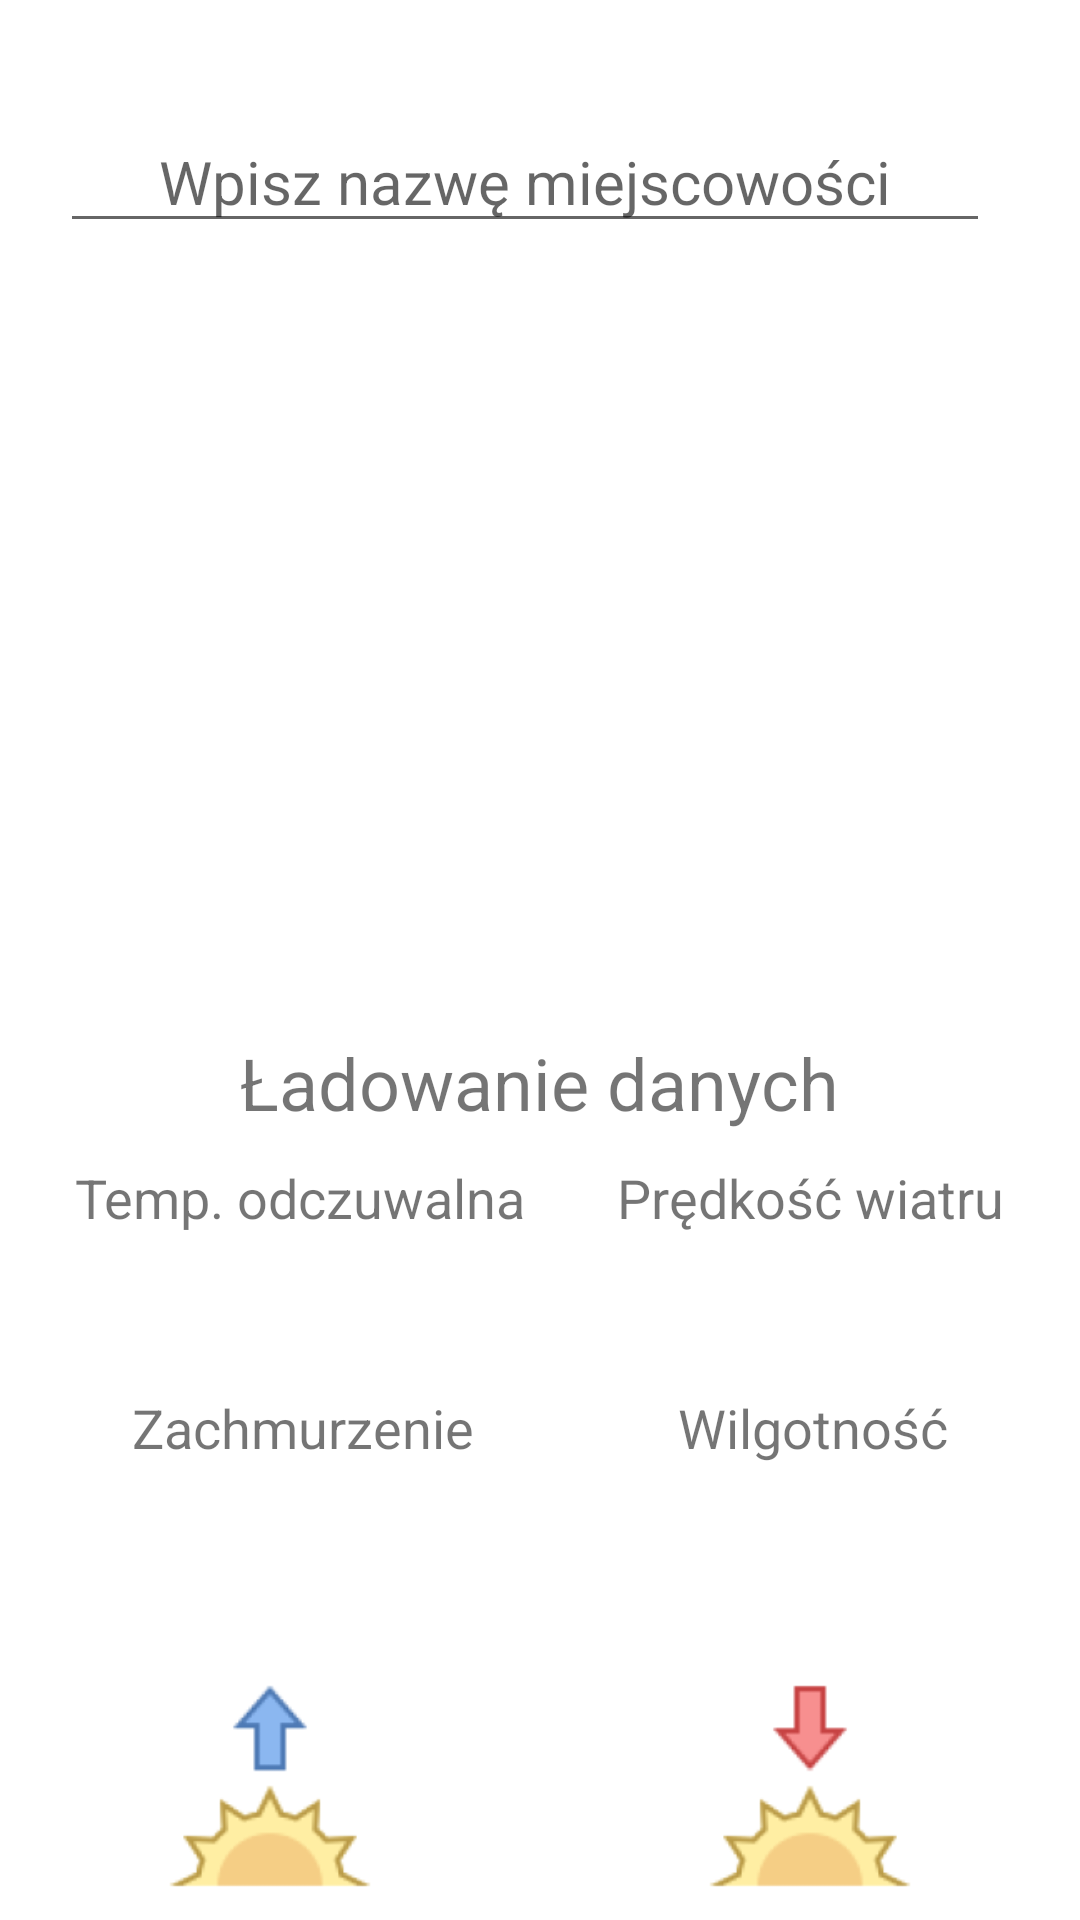

Named icons in this screenshot (1080×1920) and their bounding boxes, (x1, y1, x2, y2):
sunrise: (170, 1686, 370, 1887)
sunset: (710, 1685, 910, 1887)
